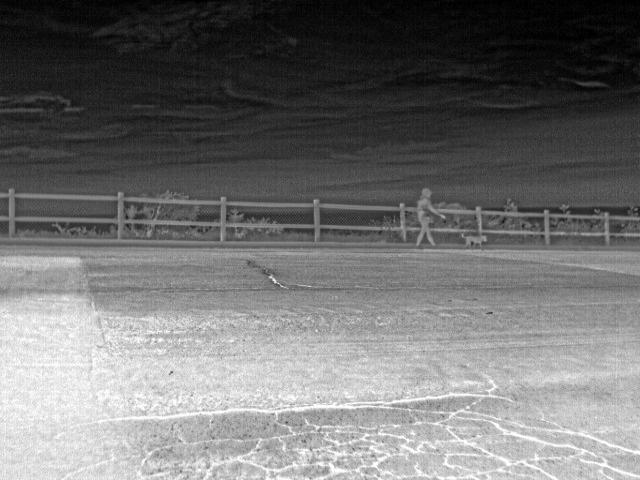dog: (463, 232, 490, 250)
person: (414, 186, 445, 250)
